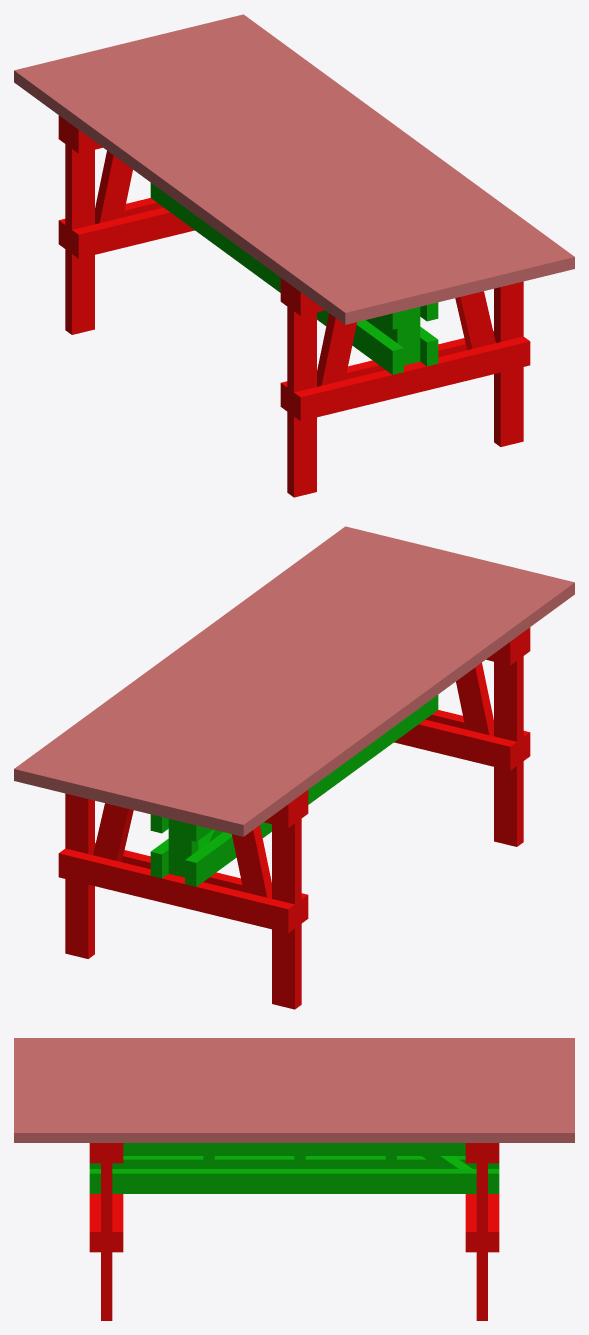
Rendered from result.glb.
3 views of the same model, one above another, from view 1: azimuth 30°, elevation 25°; view 2: azimuth 150°, elevation 25°; view 3: azimuth 270°, elevation 25° (orthographic). The views are drawn at different scales.
Visible parts, largest first — view 1: 8f8170d5-9924-4ca1-9cd7-65a724f32421__Box, d6dbed91-374a-4a61-ba7b-1e3bc65d52e3__undefined, a0793200-872a-4d29-82c3-0cd9575f1f7f__undefined, 4bf29b1b-9010-4525-bbdb-8dd1d7f4b6a7__undefined, 9696a718-06db-46d3-9f13-940e827acccf__undefined, cfa7be20-e993-4142-8e84-e0ddb4ce9305__undefined, 4e65a5f0-8e28-48cf-ba2b-a17bfeed327b__undefined, 79cca01f-b5a8-4796-a784-4d1efd2a4a3c__undefined, 95e3c2b1-d219-4da7-95ac-4170dc5942f2__undefined, e801334e-474b-47f3-9477-17482eeeffb7__undefined, c1c0ba70-de4a-41d4-bed5-607466aa6a5a__sideH, 7461431f-c98c-46a6-ba8c-f85fadb6a856__sideV (+11 smaller); view 2: 8f8170d5-9924-4ca1-9cd7-65a724f32421__Box, d6dbed91-374a-4a61-ba7b-1e3bc65d52e3__undefined, a0793200-872a-4d29-82c3-0cd9575f1f7f__undefined, 4bf29b1b-9010-4525-bbdb-8dd1d7f4b6a7__undefined, 9696a718-06db-46d3-9f13-940e827acccf__undefined, cfa7be20-e993-4142-8e84-e0ddb4ce9305__undefined, 4e65a5f0-8e28-48cf-ba2b-a17bfeed327b__undefined, 79cca01f-b5a8-4796-a784-4d1efd2a4a3c__undefined, 95e3c2b1-d219-4da7-95ac-4170dc5942f2__undefined, e801334e-474b-47f3-9477-17482eeeffb7__undefined, b538836d-7b35-4160-987b-548f7cbc1a1f__undefined, 461eabe3-2019-45f3-87cf-2d02113fe13f__undefined (+11 smaller); view 3: 4e65a5f0-8e28-48cf-ba2b-a17bfeed327b__undefined, b845e114-2c45-41e2-870a-dc0b10d3d460__strutH, 8f8170d5-9924-4ca1-9cd7-65a724f32421__Box, a0793200-872a-4d29-82c3-0cd9575f1f7f__undefined, d6dbed91-374a-4a61-ba7b-1e3bc65d52e3__undefined, 9696a718-06db-46d3-9f13-940e827acccf__undefined, 4bf29b1b-9010-4525-bbdb-8dd1d7f4b6a7__undefined, 79cca01f-b5a8-4796-a784-4d1efd2a4a3c__undefined, 95e3c2b1-d219-4da7-95ac-4170dc5942f2__undefined, cfa7be20-e993-4142-8e84-e0ddb4ce9305__undefined, e801334e-474b-47f3-9477-17482eeeffb7__undefined, b4b15c5a-f83b-4ee5-bed9-ec0f3b7199a5__strutH (+8 smaller).
Part boxes in pixels (<box>): 8f8170d5-9924-4ca1-9cd7-65a724f32421__Box: <box>14,65,368,324</box>; d6dbed91-374a-4a61-ba7b-1e3bc65d52e3__undefined: <box>60,53,414,313</box>; a0793200-872a-4d29-82c3-0cd9575f1f7f__undefined: <box>37,59,391,319</box>; 4bf29b1b-9010-4525-bbdb-8dd1d7f4b6a7__undefined: <box>106,42,460,302</box>; 9696a718-06db-46d3-9f13-940e827acccf__undefined: <box>83,48,437,307</box>; cfa7be20-e993-4142-8e84-e0ddb4ce9305__undefined: <box>175,25,528,285</box>; 4e65a5f0-8e28-48cf-ba2b-a17bfeed327b__undefined: <box>221,14,574,274</box>; 79cca01f-b5a8-4796-a784-4d1efd2a4a3c__undefined: <box>129,37,482,296</box>; 95e3c2b1-d219-4da7-95ac-4170dc5942f2__undefined: <box>152,31,505,291</box>; e801334e-474b-47f3-9477-17482eeeffb7__undefined: <box>198,20,551,279</box>; c1c0ba70-de4a-41d4-bed5-607466aa6a5a__sideH: <box>294,336,530,421</box>; 7461431f-c98c-46a6-ba8c-f85fadb6a856__sideV: <box>287,283,316,497</box>; 8f8170d5-9924-4ca1-9cd7-65a724f32421__Box: <box>220,577,574,836</box>; d6dbed91-374a-4a61-ba7b-1e3bc65d52e3__undefined: <box>174,565,528,825</box>; a0793200-872a-4d29-82c3-0cd9575f1f7f__undefined: <box>197,571,551,831</box>; 4bf29b1b-9010-4525-bbdb-8dd1d7f4b6a7__undefined: <box>128,554,482,814</box>; 9696a718-06db-46d3-9f13-940e827acccf__undefined: <box>151,560,505,819</box>; cfa7be20-e993-4142-8e84-e0ddb4ce9305__undefined: <box>60,537,413,797</box>; 4e65a5f0-8e28-48cf-ba2b-a17bfeed327b__undefined: <box>14,526,367,786</box>; 79cca01f-b5a8-4796-a784-4d1efd2a4a3c__undefined: <box>106,549,459,808</box>; 95e3c2b1-d219-4da7-95ac-4170dc5942f2__undefined: <box>83,543,436,803</box>; e801334e-474b-47f3-9477-17482eeeffb7__undefined: <box>37,532,390,791</box>; b538836d-7b35-4160-987b-548f7cbc1a1f__undefined: <box>58,848,294,933</box>; 461eabe3-2019-45f3-87cf-2d02113fe13f__undefined: <box>272,795,301,1009</box>; 4e65a5f0-8e28-48cf-ba2b-a17bfeed327b__undefined: <box>14,1123,574,1142</box>; b845e114-2c45-41e2-870a-dc0b10d3d460__strutH: <box>89,1169,499,1193</box>; 8f8170d5-9924-4ca1-9cd7-65a724f32421__Box: <box>14,1038,574,1047</box>; a0793200-872a-4d29-82c3-0cd9575f1f7f__undefined: <box>14,1047,574,1056</box>; d6dbed91-374a-4a61-ba7b-1e3bc65d52e3__undefined: <box>14,1057,574,1066</box>; 9696a718-06db-46d3-9f13-940e827acccf__undefined: <box>14,1066,574,1075</box>; 4bf29b1b-9010-4525-bbdb-8dd1d7f4b6a7__undefined: <box>14,1076,574,1085</box>; 79cca01f-b5a8-4796-a784-4d1efd2a4a3c__undefined: <box>14,1085,574,1094</box>; 95e3c2b1-d219-4da7-95ac-4170dc5942f2__undefined: <box>14,1095,574,1104</box>; cfa7be20-e993-4142-8e84-e0ddb4ce9305__undefined: <box>14,1104,574,1113</box>; e801334e-474b-47f3-9477-17482eeeffb7__undefined: <box>14,1114,574,1123</box>; b4b15c5a-f83b-4ee5-bed9-ec0f3b7199a5__strutH: <box>123,1143,465,1155</box>.
Bounding box in the file's own units: 800 × 740 × 2000.
